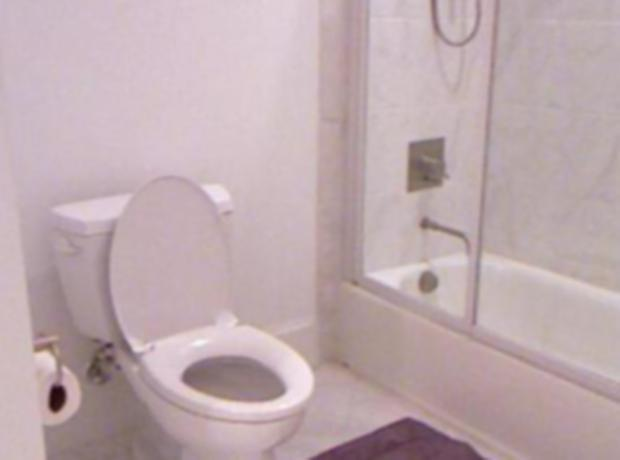Ducha: (347, 0, 620, 460)
Sanitario: (47, 168, 315, 460)
